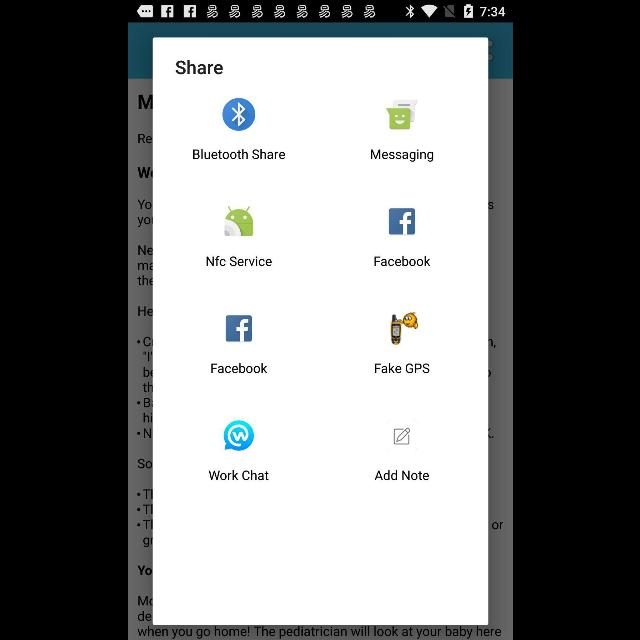icon: (222, 98, 254, 132), (225, 316, 251, 342), (388, 209, 414, 235), (393, 428, 409, 444)
image: (386, 98, 418, 130), (390, 312, 418, 346), (223, 422, 253, 451), (224, 207, 252, 236)
panel: (152, 38, 488, 624)
text: (193, 148, 285, 160), (370, 150, 432, 162), (175, 60, 223, 74), (206, 256, 270, 266), (208, 470, 268, 480), (375, 362, 429, 373), (374, 256, 431, 266), (210, 363, 266, 373), (374, 470, 428, 480)
uppertaskbar: (128, 1, 512, 23)
